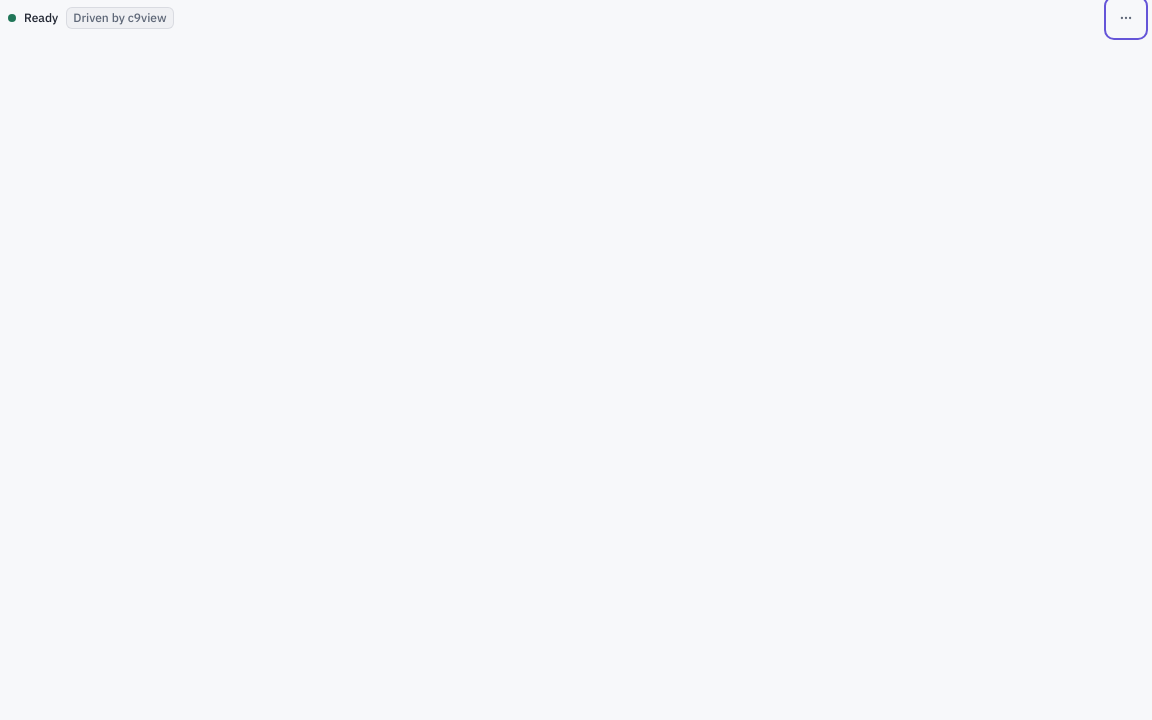
Test: Confirm stops once even on a double click, and is disabled while pending
The image size is (1152, 720).
Later steps or results of the test are not shown.
Click the button named "Run options".
click(1126, 18)  # box x1=1108 y1=0 x2=1144 y2=36
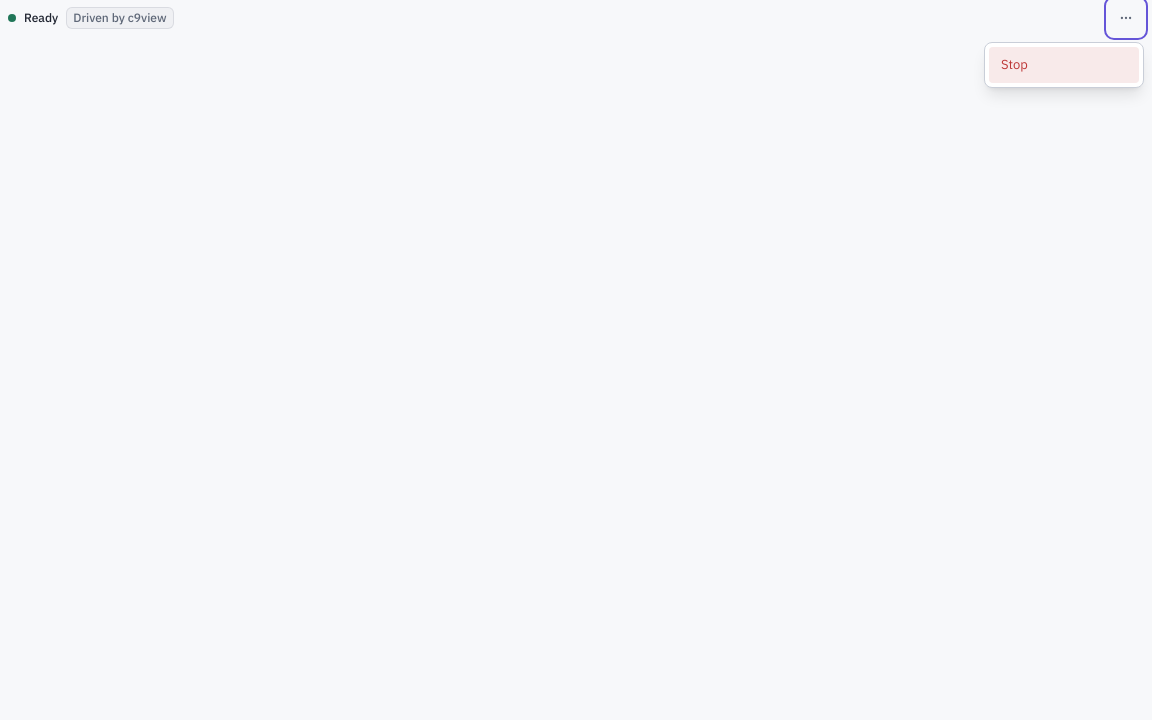
Click the menu item "Stop".
click(1064, 65)  # box x1=989 y1=47 x2=1139 y2=83
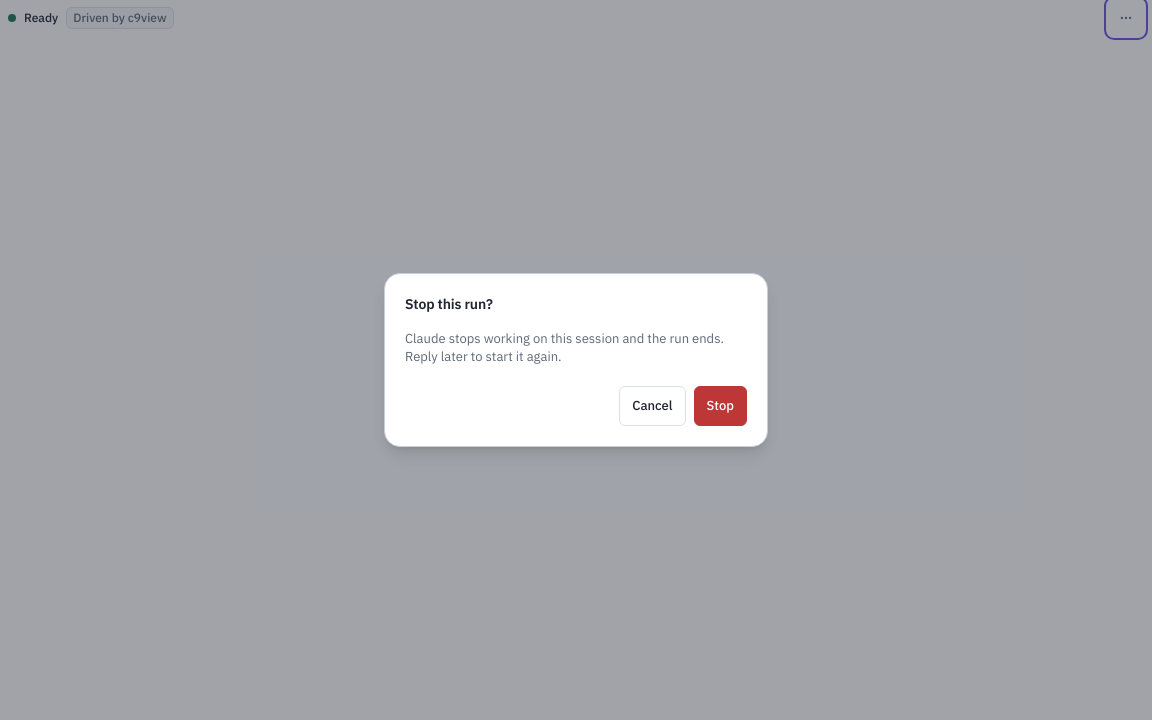
Click the button "Stop".
click(720, 406)  # box x1=694 y1=386 x2=747 y2=426
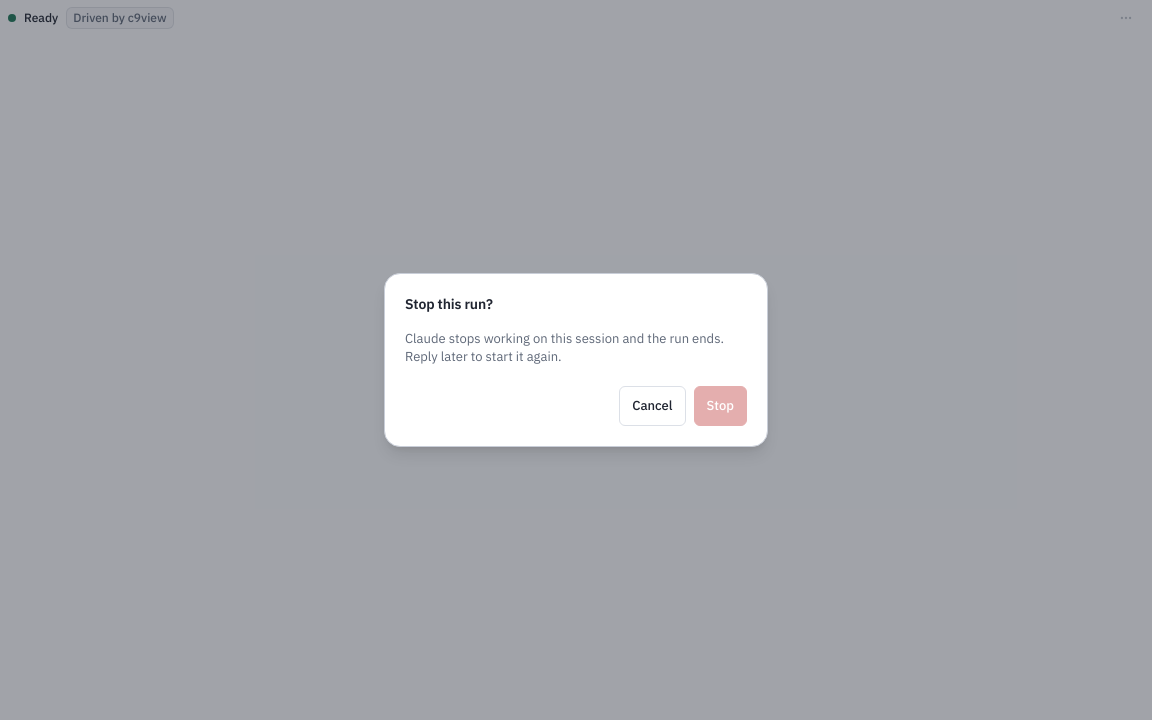
Click the button "Stop".
click(720, 406)  # box x1=694 y1=386 x2=747 y2=426
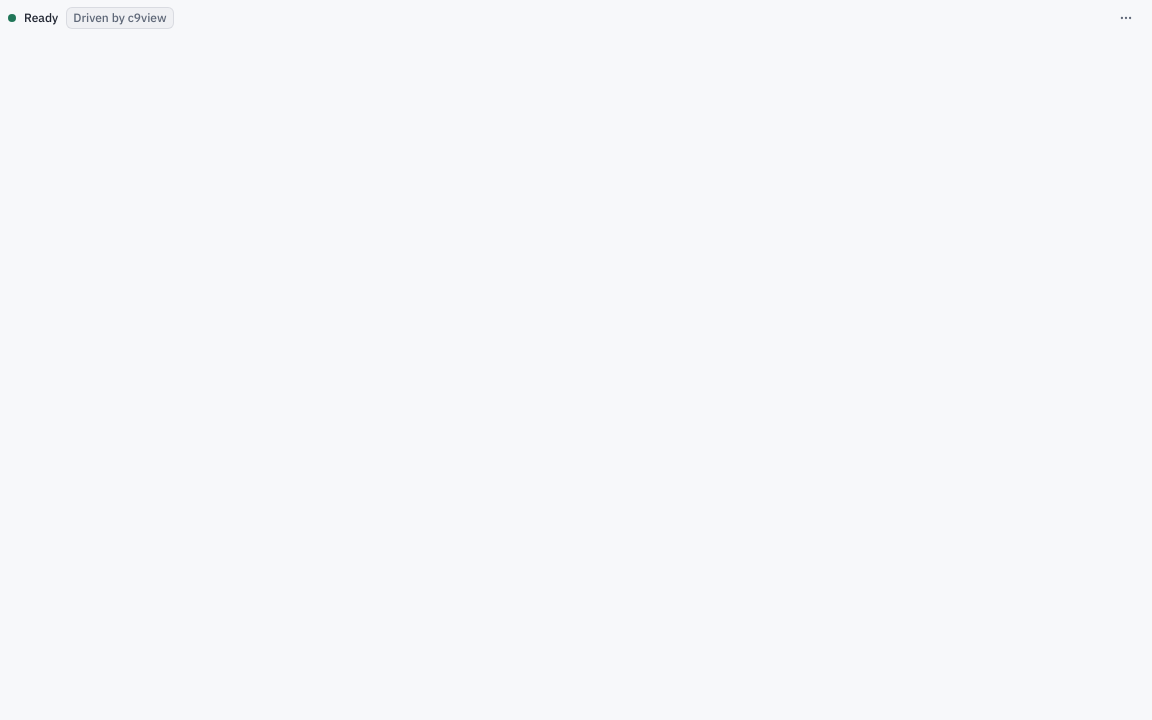
Expected: the dialog is gone
